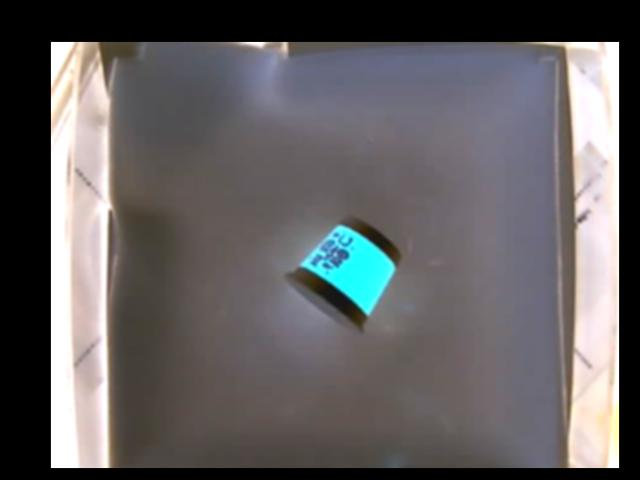Cup: (283, 218, 404, 331)
